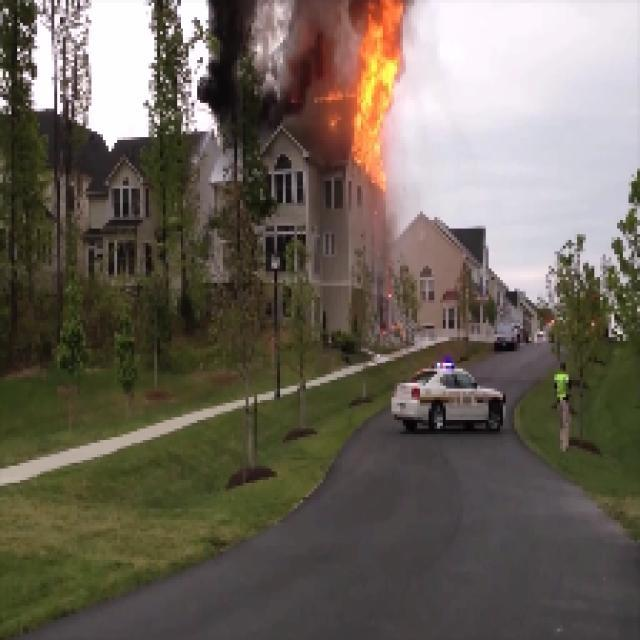Fire: (351, 0, 405, 174)
Smoke: (203, 2, 261, 132), (280, 0, 326, 97)
